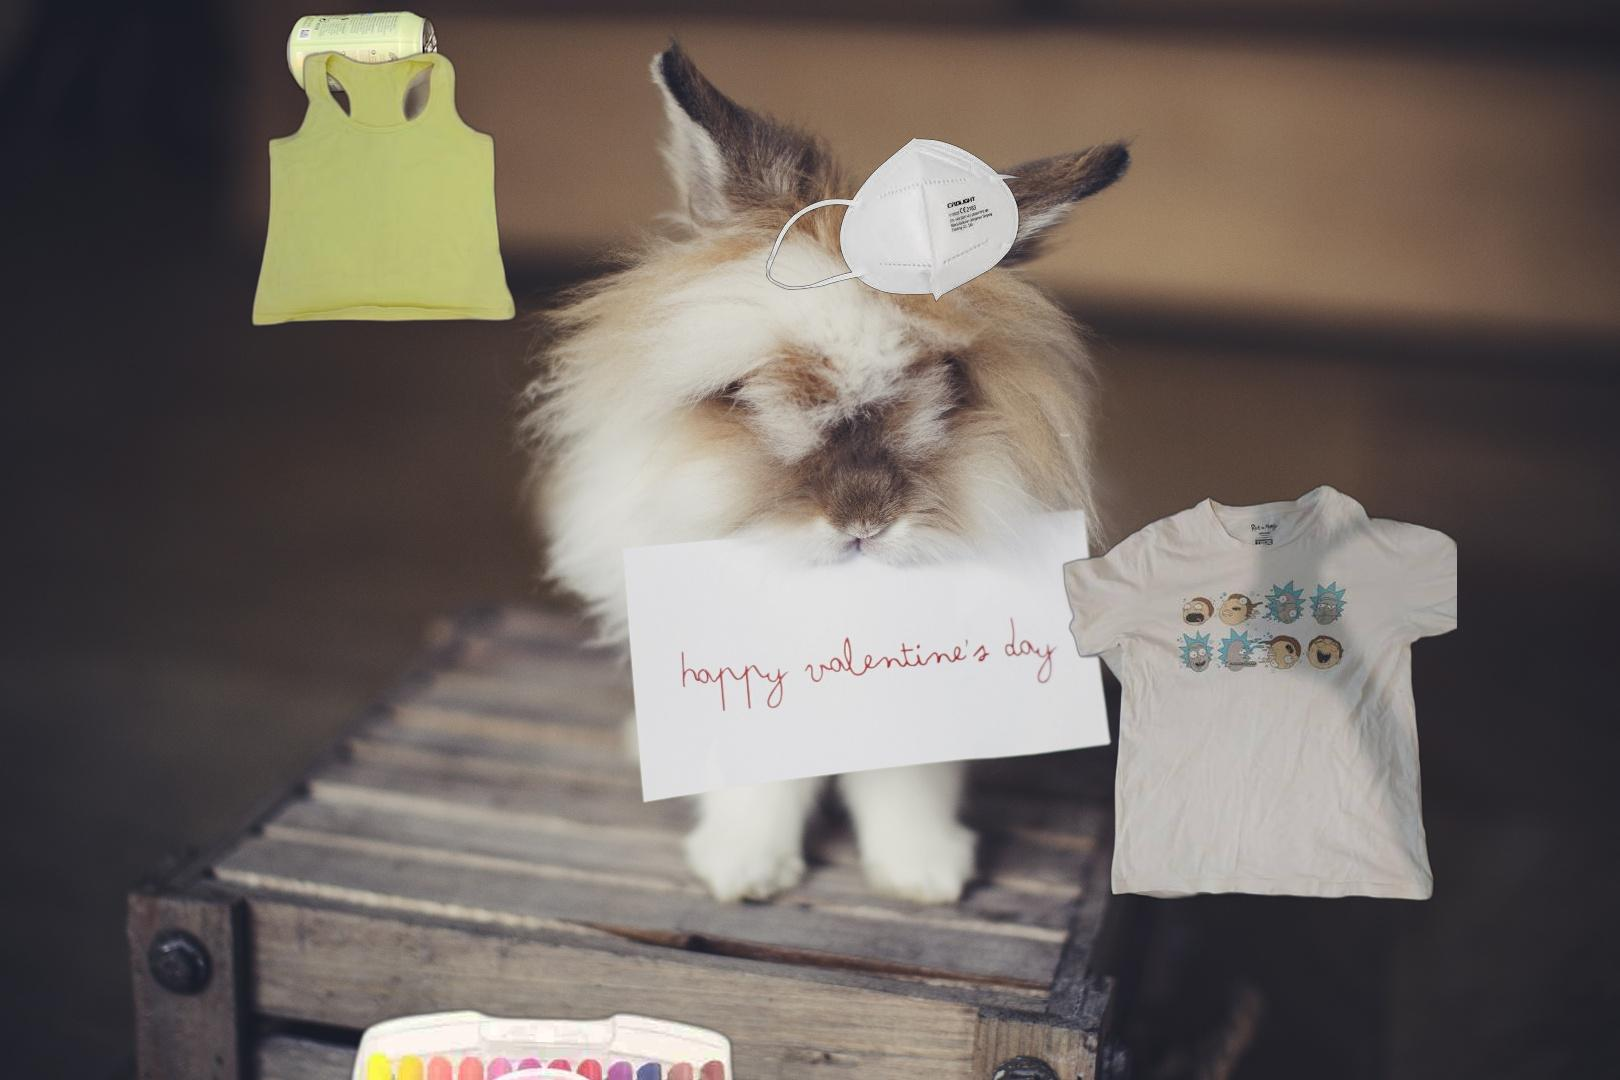clothes: (1060, 481, 1457, 906), (250, 47, 520, 331), (1593, 910, 1620, 1080)
metal-cans: (281, 4, 442, 99)
penholder: (190, 1003, 755, 1080)
trash: (765, 137, 1073, 303)
